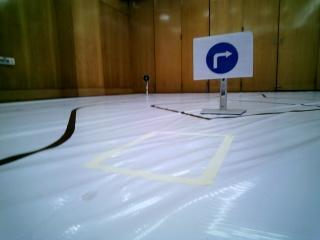right: (195, 37, 251, 79)
